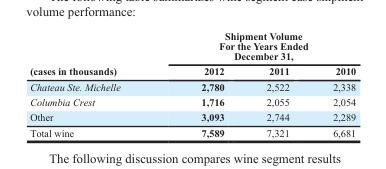table: (29, 29, 355, 138)
table column: (29, 29, 160, 138), (160, 29, 244, 138), (244, 29, 310, 138), (310, 29, 355, 138)
table column header: (29, 29, 355, 78)
table row: (29, 29, 355, 63), (29, 93, 355, 109), (29, 63, 355, 78), (29, 78, 355, 93), (29, 109, 355, 124), (29, 124, 355, 138)
table spanning cell: (160, 29, 355, 63), (29, 29, 160, 78)
